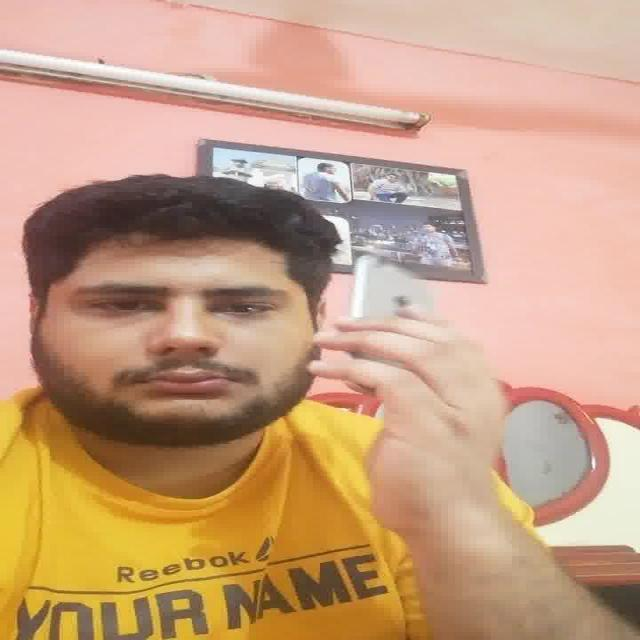Phone: (347, 252, 438, 336)
